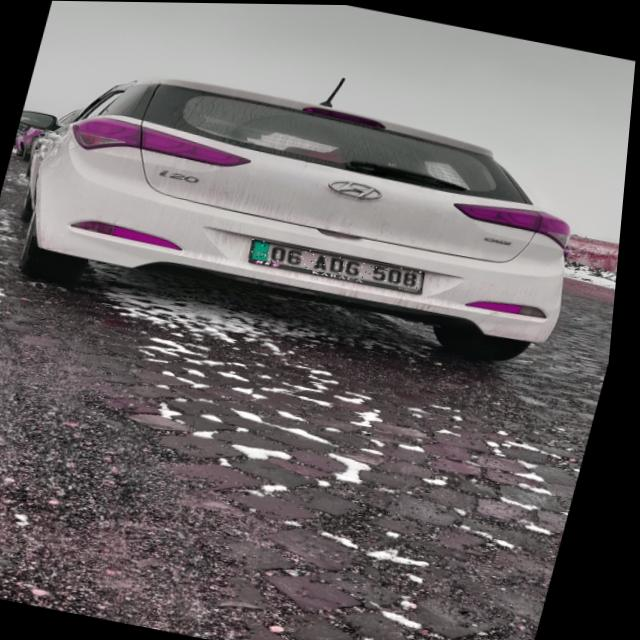license_plate: (250, 238, 431, 289)
